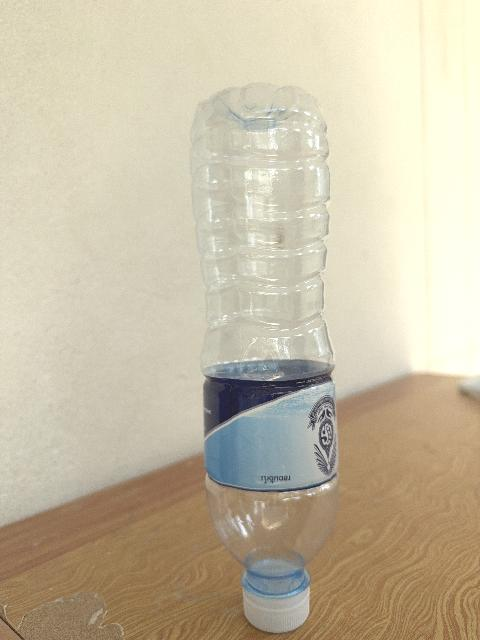bottle: (190, 84, 338, 632)
